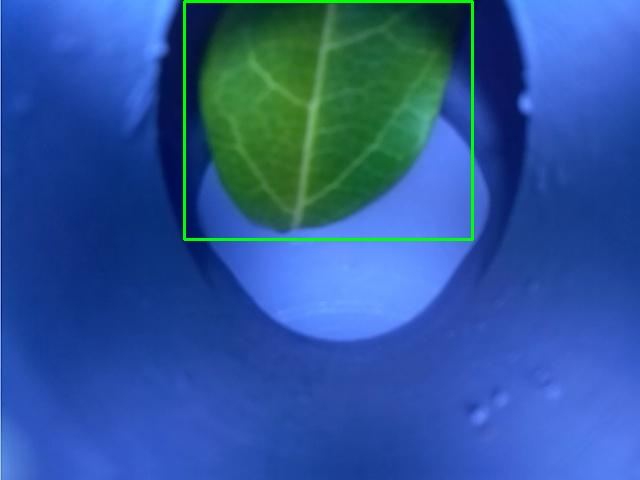feuille: (184, 1, 472, 239)
